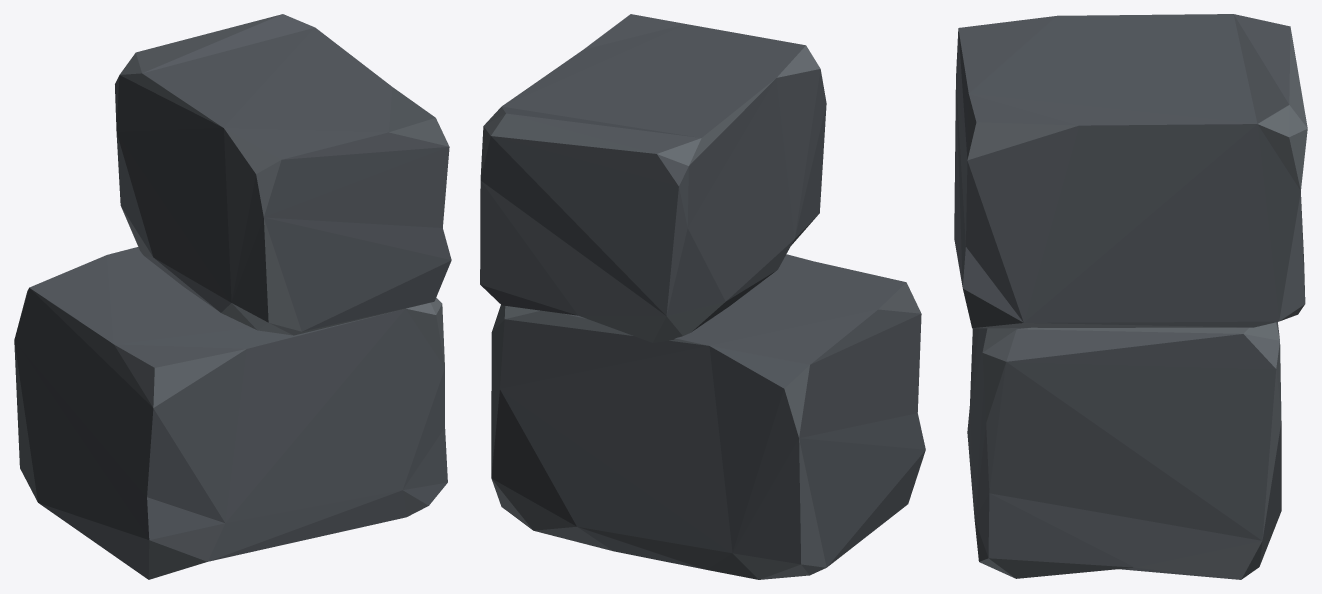
The model's file is MCastle_BrickCorners_02.FBX.
3 renders of one model, left to right at view 1: azimuth 30°, elevation 25°; view 2: azimuth 150°, elevation 25°; view 3: azimuth 270°, elevation 25°, orthographic. The views are drawn at different scales.
Visible parts, largest first — view 1: MCastle_BrickCorners_02_LOD0; view 2: MCastle_BrickCorners_02_LOD0; view 3: MCastle_BrickCorners_02_LOD0.
Boxes of the visible parts, left/top/right/bottom form: MCastle_BrickCorners_02_LOD0: left=14, top=14, right=451, bottom=579; MCastle_BrickCorners_02_LOD0: left=480, top=14, right=925, bottom=579; MCastle_BrickCorners_02_LOD0: left=954, top=14, right=1307, bottom=579.
Size of what is drawn, in the model's own units: 1.81 by 2.28 by 1.55.
